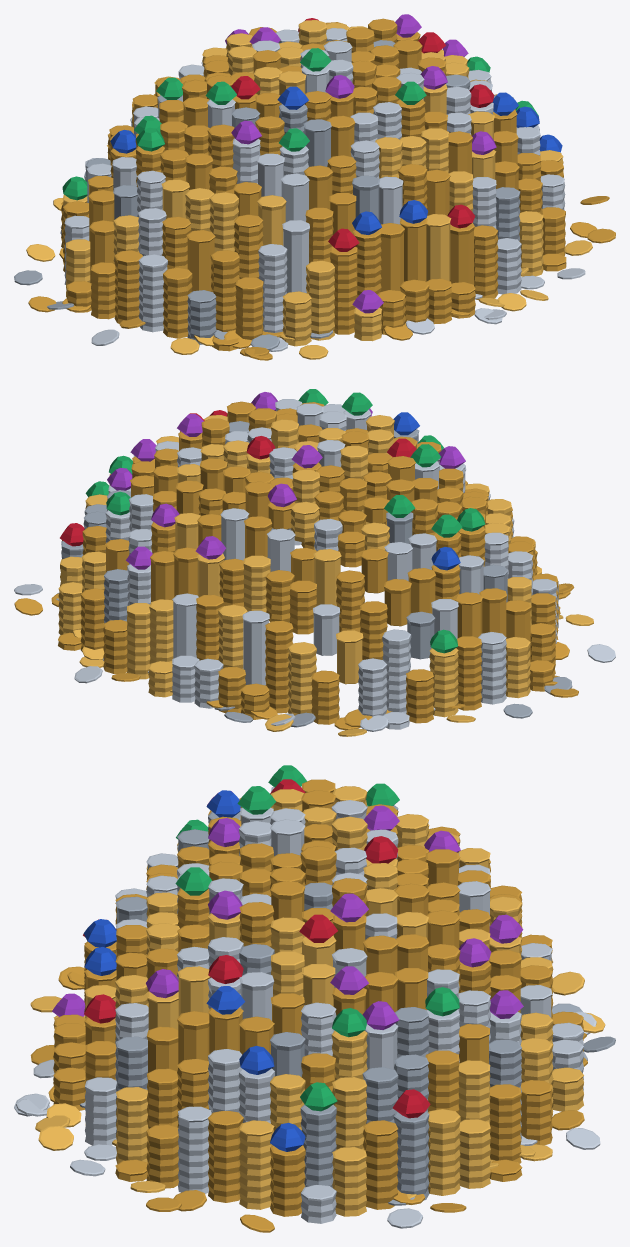
The model's file is PileSmall_Large.fbx.
The picture shows the model from 3 angles, top to bottom: view 1: azimuth 30°, elevation 25°; view 2: azimuth 150°, elevation 25°; view 3: azimuth 270°, elevation 25°; orthographic projection. The views are drawn at different scales.
Parts seen in each view (by area): view 1: PileSmall_Large; view 2: PileSmall_Large; view 3: PileSmall_Large.
Part boxes in pixels (x1,y1,x2,y2): PileSmall_Large: (14, 14, 615, 360); PileSmall_Large: (14, 389, 615, 736); PileSmall_Large: (14, 765, 615, 1232).
Bounding box in the file's own units: 150 × 58.7 × 117.
